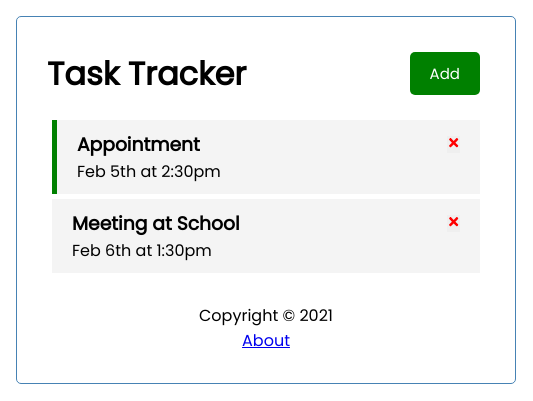
about link click
Click the link with test id "about-link" at coordinates (266, 340), box [242,329,290,352]
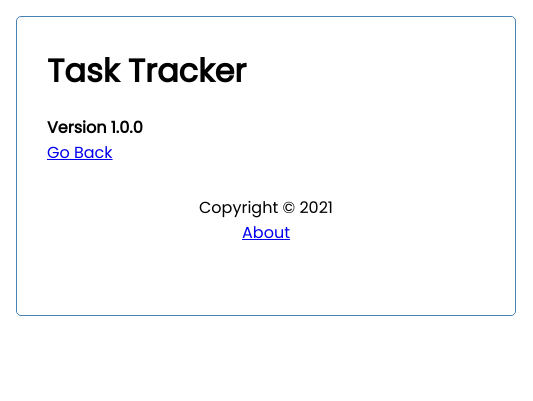
Check: the heading "Version 1.0.0" is shown, box [47,116,143,139]
